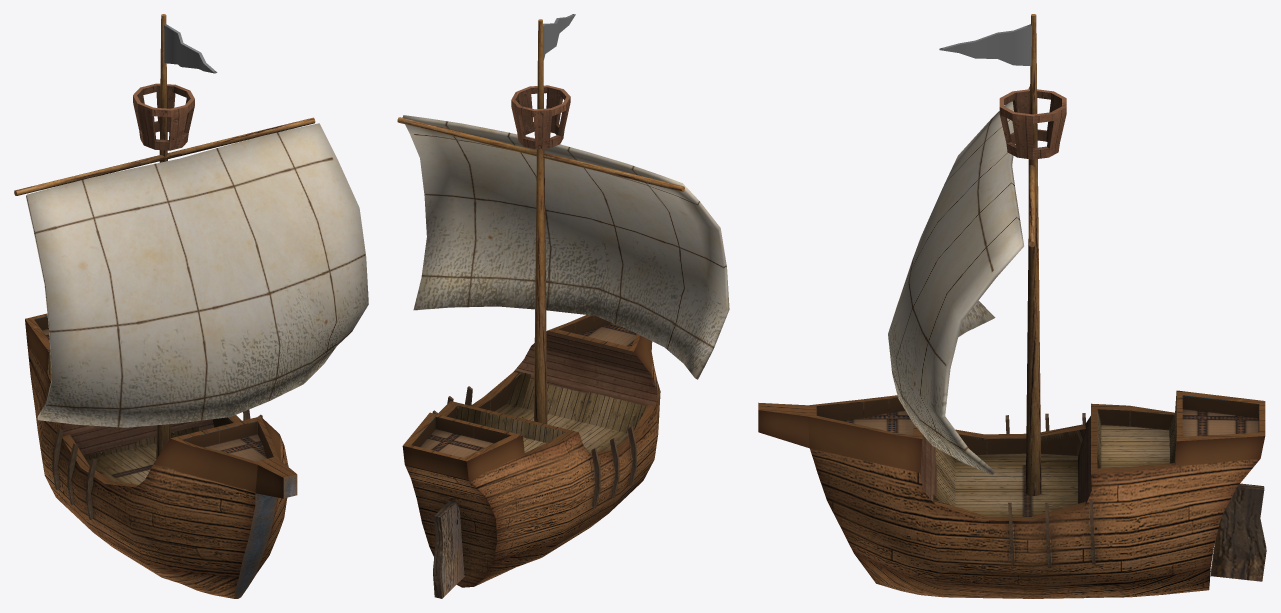
File: ship_lvl_1.fbx
The picture shows the model from 3 angles, left to right: view 1: azimuth 30°, elevation 25°; view 2: azimuth 150°, elevation 25°; view 3: azimuth 270°, elevation 25°; orthographic projection. The views are drawn at different scales.
Visible parts, largest first — view 1: ship_lvl_1; view 2: ship_lvl_1; view 3: ship_lvl_1.
Boxes of the visible parts, bbox=[...] form: ship_lvl_1: bbox=[14, 14, 368, 598]; ship_lvl_1: bbox=[397, 14, 729, 598]; ship_lvl_1: bbox=[758, 14, 1266, 598].
Bounding box in the file's own units: 47.33 × 76.65 × 61.47.
